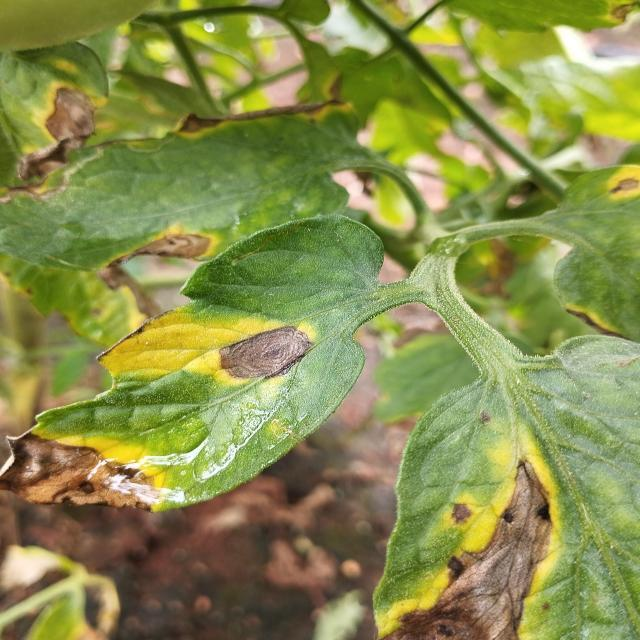Tomato mosaic virus leaf: (37, 213, 392, 422)
